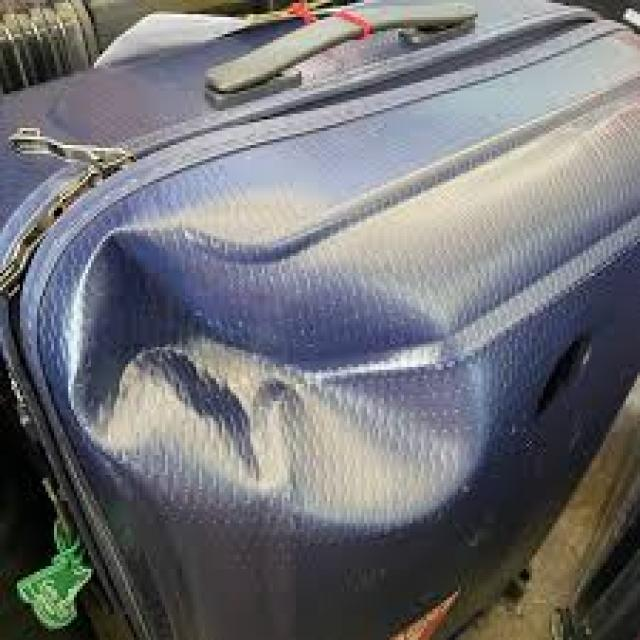Damage-bag: (71, 231, 502, 532)
